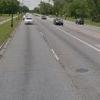Car: (51, 13, 67, 33)
